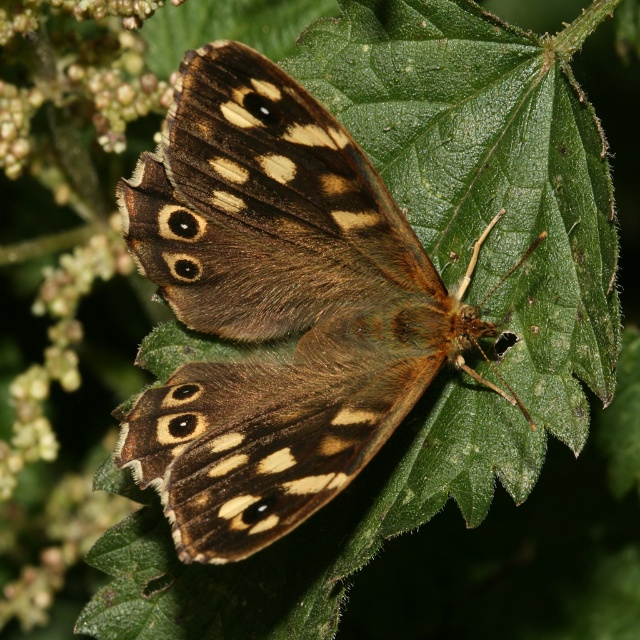Butterfly: (111, 40, 549, 566)
